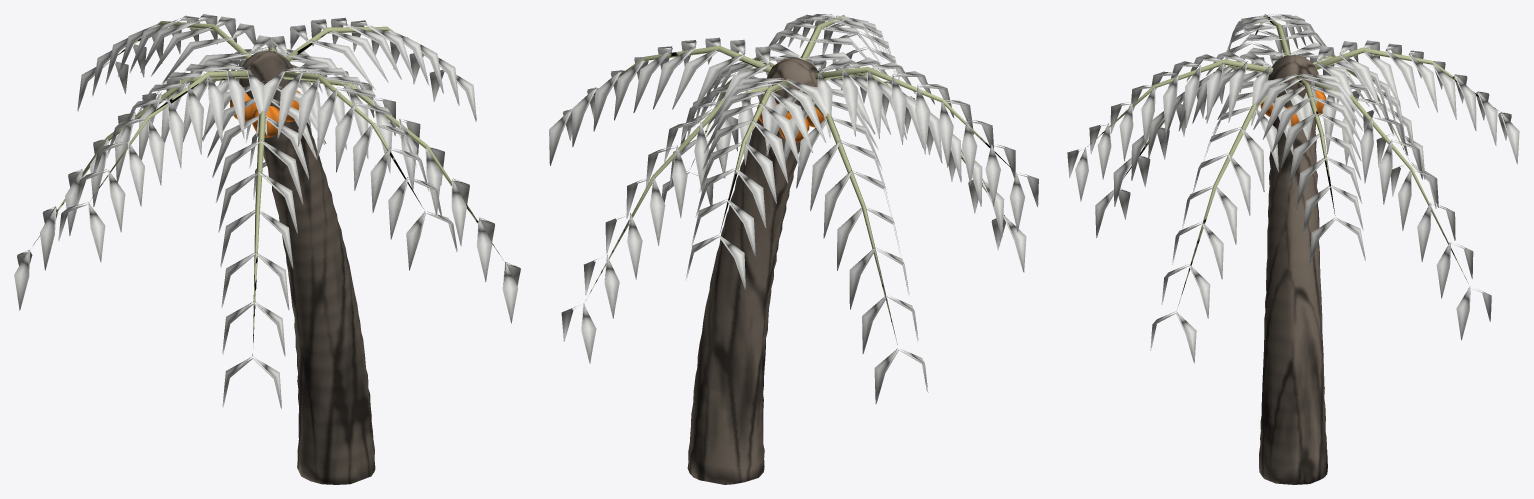
File: LeavedLargeB.fbx
3 views of the same model, side by side, from view 1: azimuth 30°, elevation 25°; view 2: azimuth 150°, elevation 25°; view 3: azimuth 270°, elevation 25° (orthographic). The views are drawn at different scales.
Visible parts, largest first — view 1: LeavedLargeB; view 2: LeavedLargeB; view 3: LeavedLargeB.
Boxes of the visible parts, left/top/right/bottom form: LeavedLargeB: left=14, top=14, right=520, bottom=484; LeavedLargeB: left=549, top=14, right=1038, bottom=484; LeavedLargeB: left=1067, top=14, right=1519, bottom=484.
Size of the model in its own units: 1 by 0.9461 by 1.
Materials: 2 (2 with a texture image).
